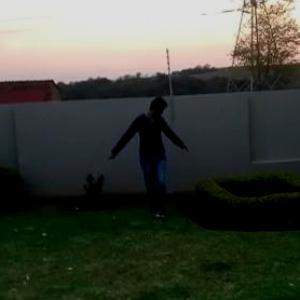land: (102, 94, 200, 230)
